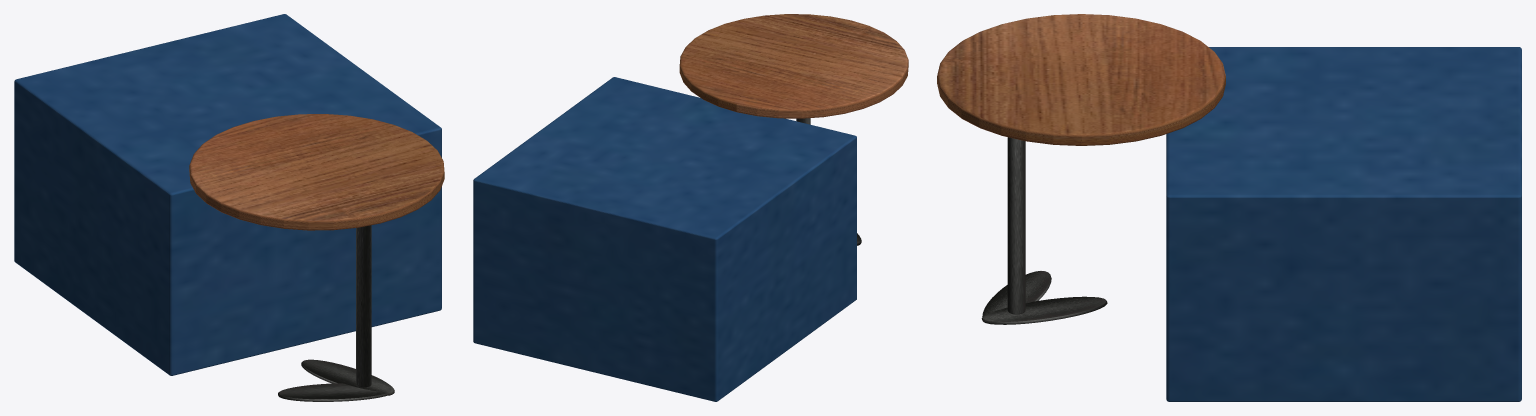
The model's file is Ottoman.obj.
3 renders of one model, left to right at view 1: azimuth 30°, elevation 25°; view 2: azimuth 150°, elevation 25°; view 3: azimuth 270°, elevation 25°, orthographic. The views are drawn at different scales.
Parts seen in each view (by area): view 1: Cube.003_COUCHES, Cube.003_NORMAL, Cube.003_Material.001; view 2: Cube.003_COUCHES, Cube.003_NORMAL; view 3: Cube.003_COUCHES, Cube.003_NORMAL, Cube.003_Material.001.
Part boxes in pixels (x1=…): Cube.003_COUCHES: x1=14, y1=14, x2=441, y2=375; Cube.003_NORMAL: x1=189, y1=114, x2=444, y2=230; Cube.003_Material.001: x1=278, y1=225, x2=394, y2=401; Cube.003_COUCHES: x1=473, y1=77, x2=856, y2=401; Cube.003_NORMAL: x1=679, y1=14, x2=908, y2=118; Cube.003_COUCHES: x1=1166, y1=47, x2=1521, y2=401; Cube.003_NORMAL: x1=937, y1=14, x2=1225, y2=145; Cube.003_Material.001: x1=981, y1=137, x2=1107, y2=324.
Size of the model in its own units: 1.61 by 1.19 by 2.63.
